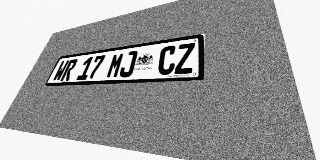1: (76, 56, 95, 80)
7: (86, 55, 106, 79)
C: (156, 45, 177, 75)
J: (118, 50, 138, 78)
M: (105, 52, 125, 78)
R: (60, 59, 78, 81)
W: (51, 60, 70, 81)
Z: (174, 42, 195, 74)
